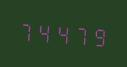four: (36, 18, 53, 46), (54, 19, 71, 47)
nine: (90, 21, 107, 50)
seven: (18, 16, 35, 44), (72, 20, 89, 48)
